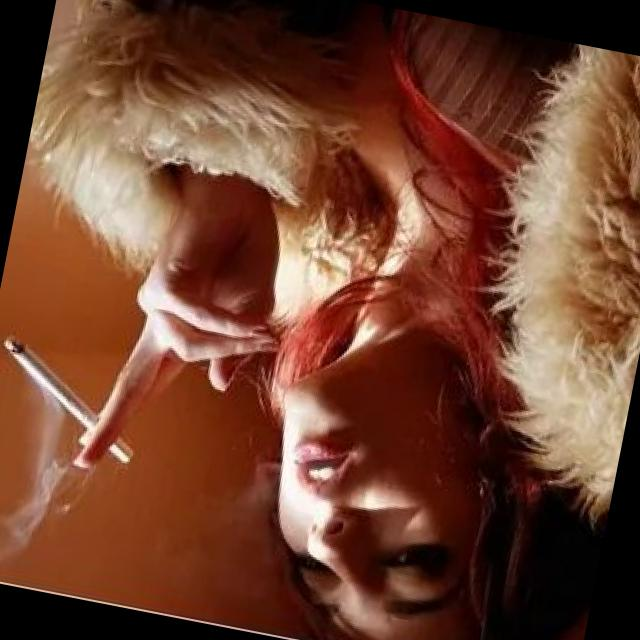cigarette: (0, 331, 155, 465)
